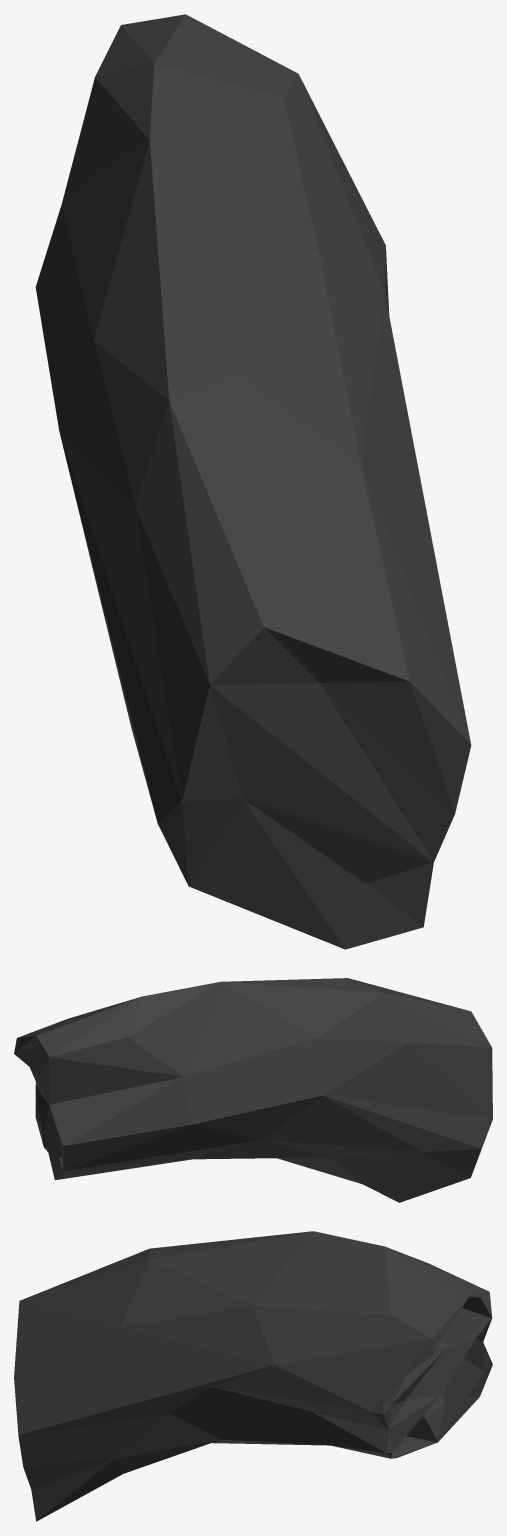
3 renders of one model, top to bottom at view 1: azimuth 30°, elevation 25°; view 2: azimuth 150°, elevation 25°; view 3: azimuth 270°, elevation 25°, orthographic. The views are drawn at different scales.
Parts seen in each view (by area): view 1: world; view 2: world; view 3: world.
Part boxes in pixels (left/top/right/bottom): world: left=35, top=14, right=471, bottom=949; world: left=14, top=978, right=492, bottom=1202; world: left=14, top=1231, right=492, bottom=1521.
Size of the model in its own units: 0.2412 by 0.2592 by 0.3736.
Materials: 1 (1 with a texture image).
